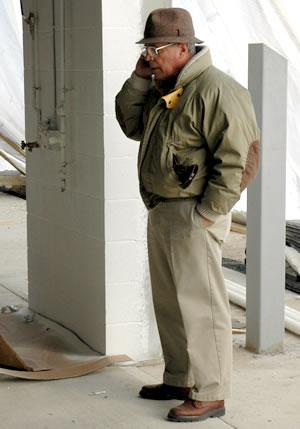person: (116, 10, 259, 423)
